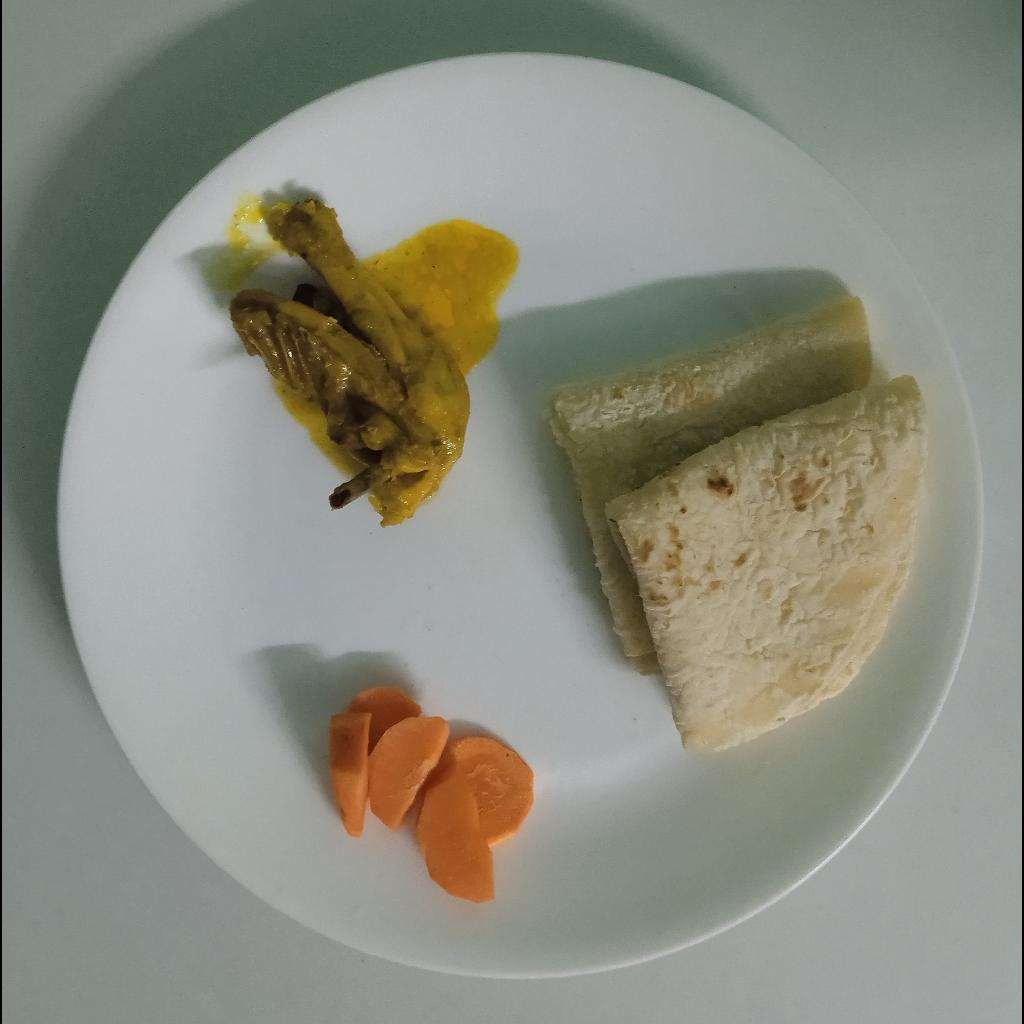carrot: (328, 689, 539, 906)
chicken: (223, 199, 473, 536)
ruti: (544, 288, 936, 760)
